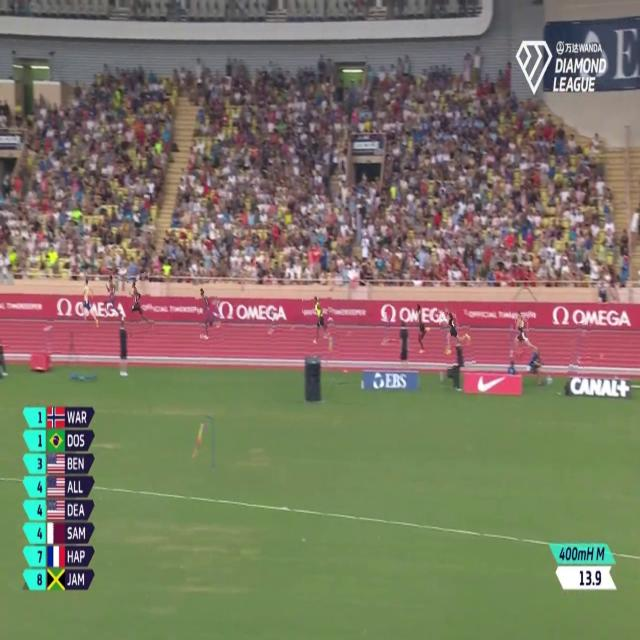athlete: (304, 294, 338, 358), (440, 305, 474, 368), (124, 273, 154, 337), (195, 280, 222, 347), (75, 265, 99, 335), (101, 269, 126, 331), (513, 306, 537, 362), (413, 302, 434, 364)
hurdle: (570, 324, 589, 376), (39, 319, 54, 356), (266, 306, 278, 345), (381, 312, 391, 347)
